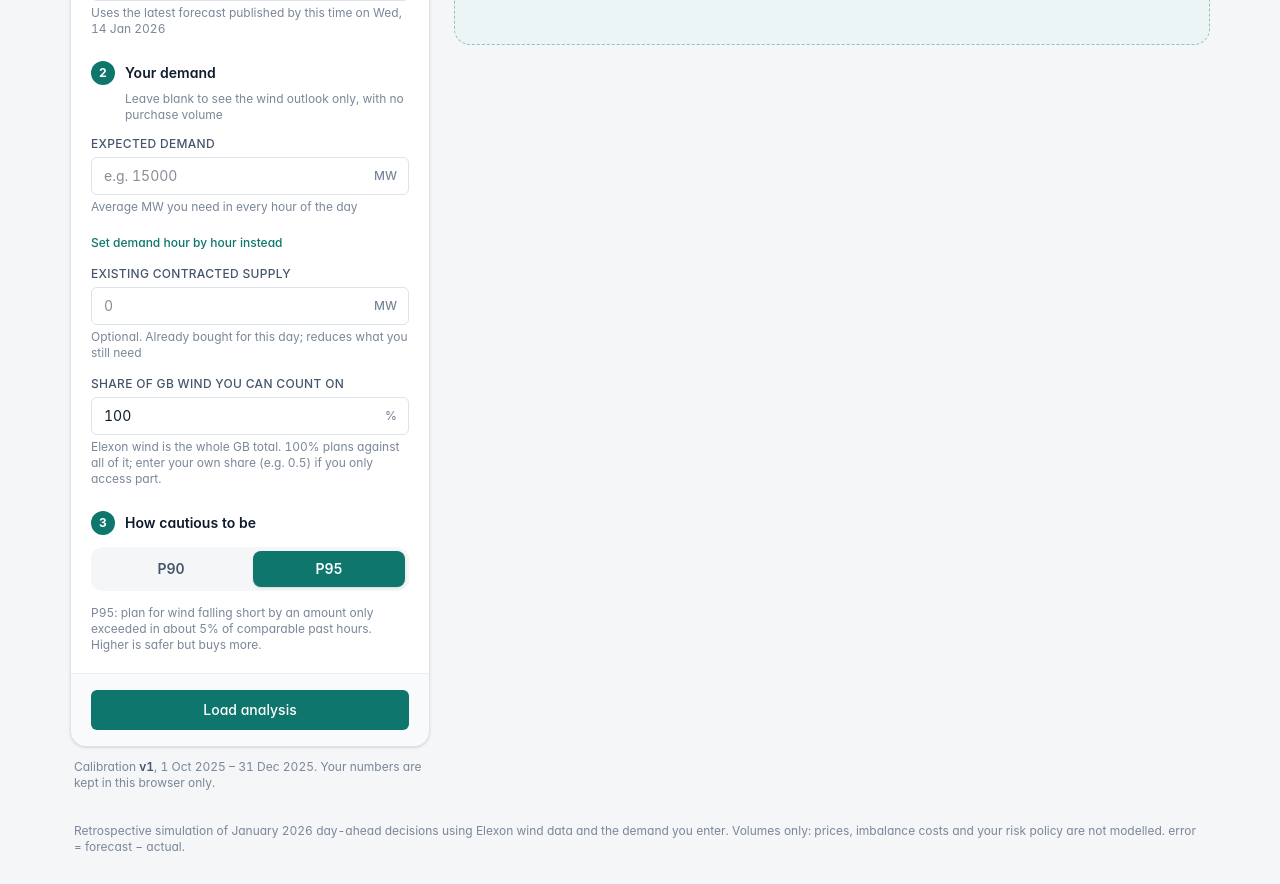
Test: Decision dashboard › explains why a calibration cannot support the decision (no silent future leakage)
(page scrolled)
Click the button "Load analysis" at (250, 710), box [91,690,409,730]
(page scrolled)
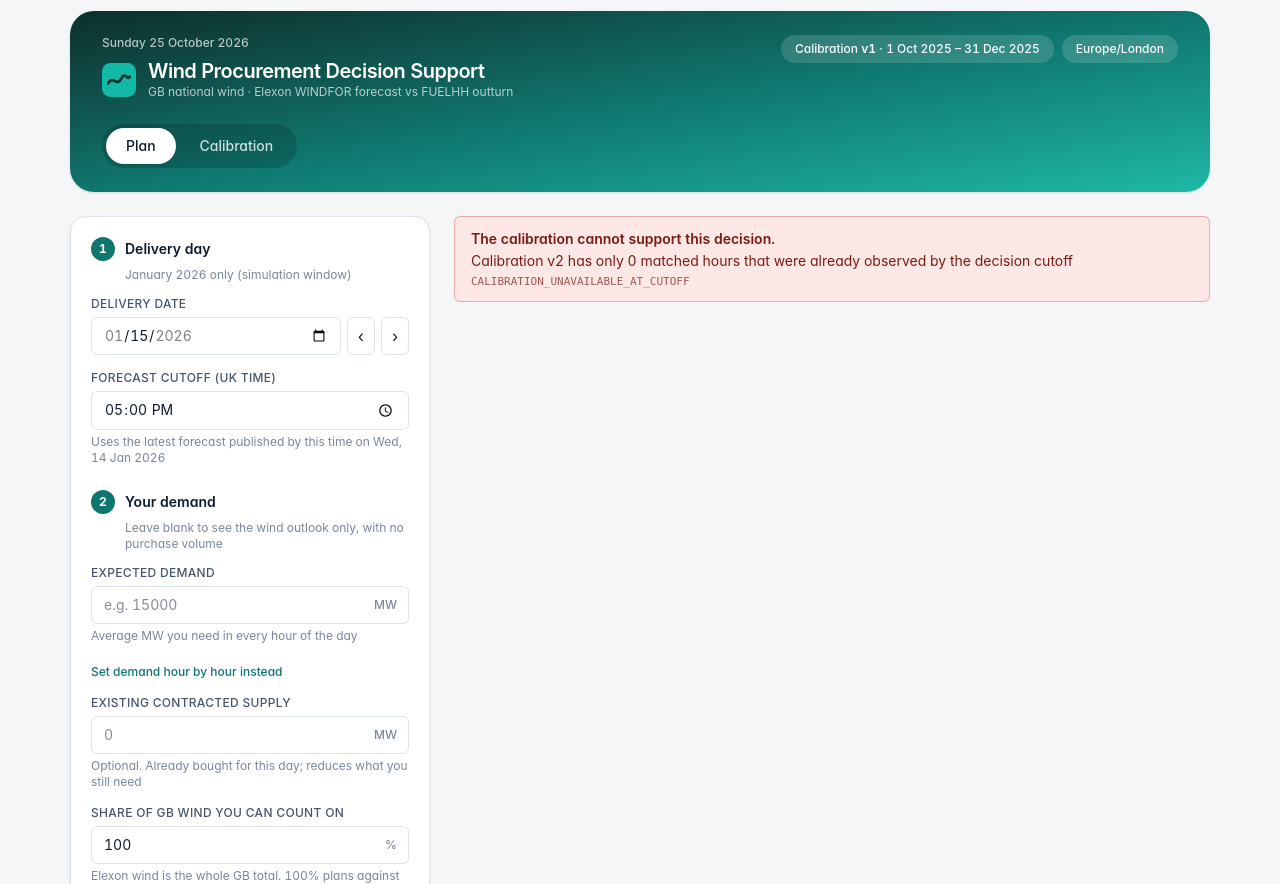
Check: the message shows "The calibration cannot support this decision.", box [471,230,775,247]
Check: the message shows "already observed by the decision cutoff", box [471,252,1073,269]
